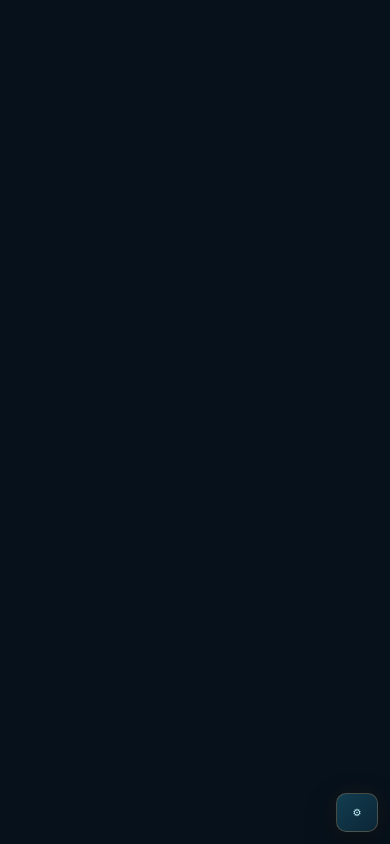
Test: customization entry point › opens and closes the local application customization dialog
What coordinates should you click on to do the following:
click the button named "Customize"
I would click on:
 (357, 812)
Its box is x1=336 y1=793 x2=378 y2=832.
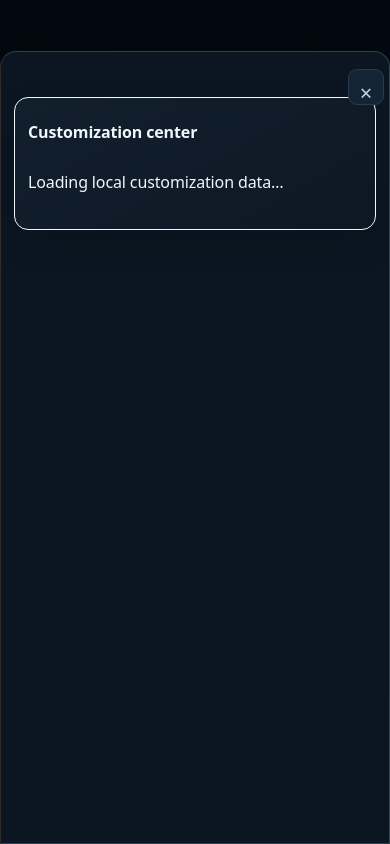
Result: the dialog named "Application customization" is shown
Result: the heading "Customization center" is shown at x1=28 y1=116 x2=197 y2=150
What coordinates should you click on to do the following:
click the button named "Close customization"
I would click on:
 (366, 87)
Its box is x1=348 y1=69 x2=384 y2=105.
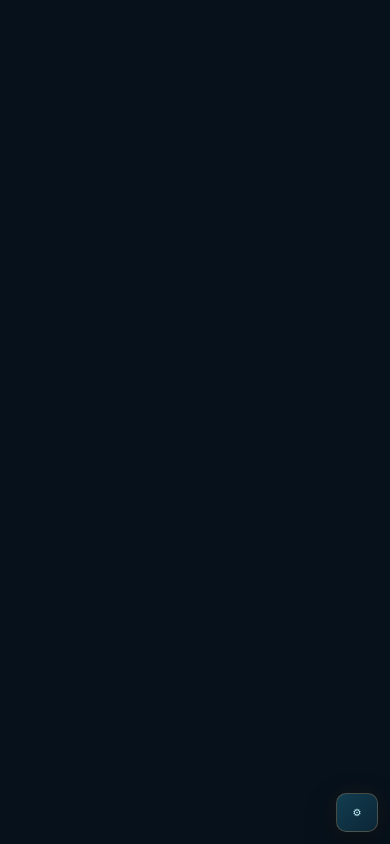
Result: the dialog is gone
